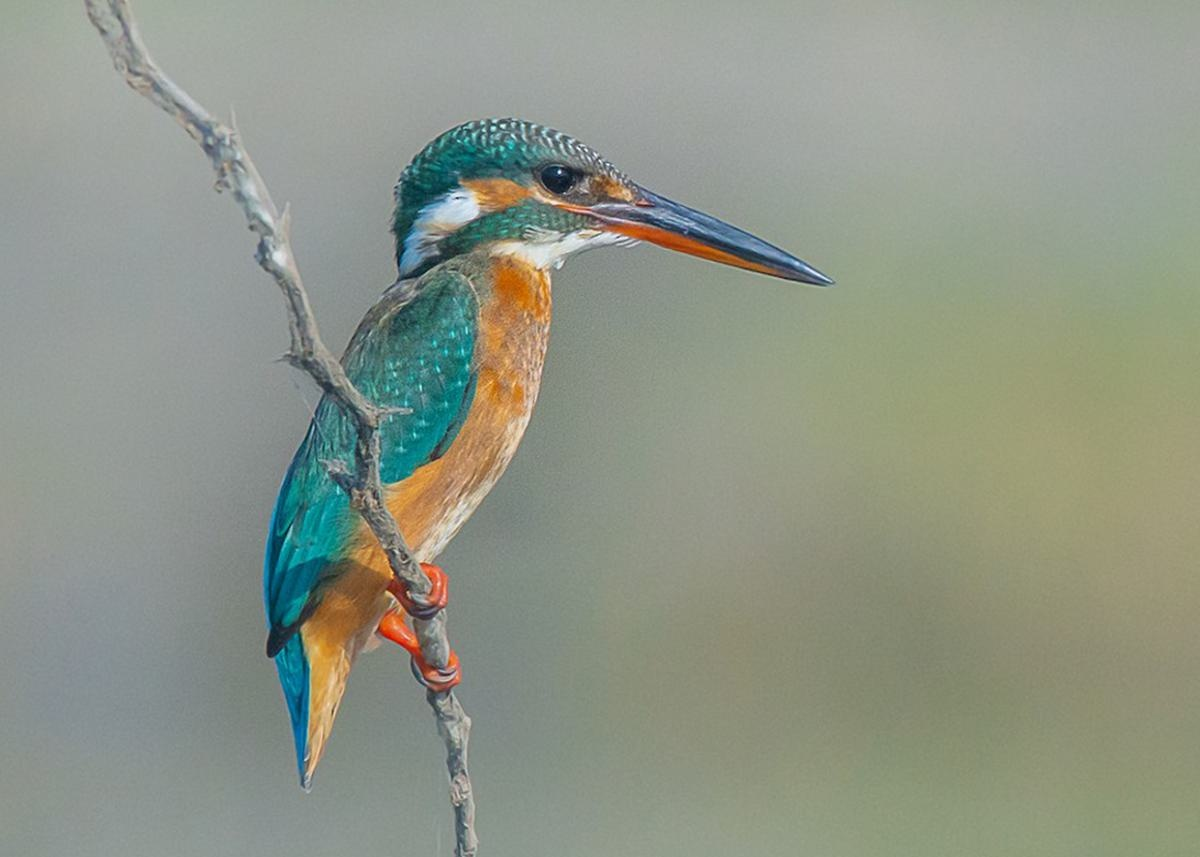kingfisher: (232, 115, 836, 775)
